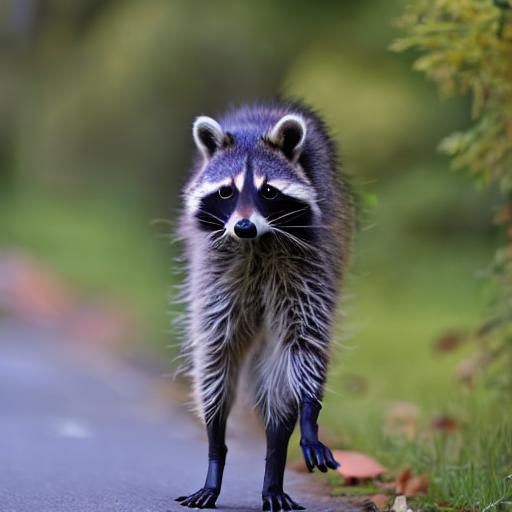raccoon: (155, 92, 368, 432)
